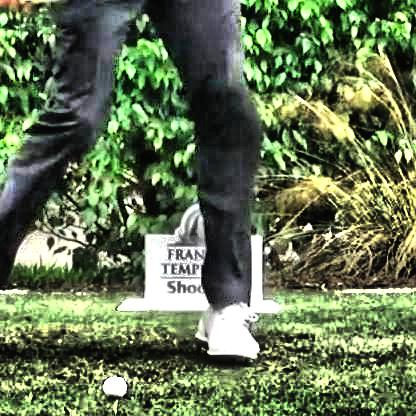golfball: (98, 372, 123, 396)
